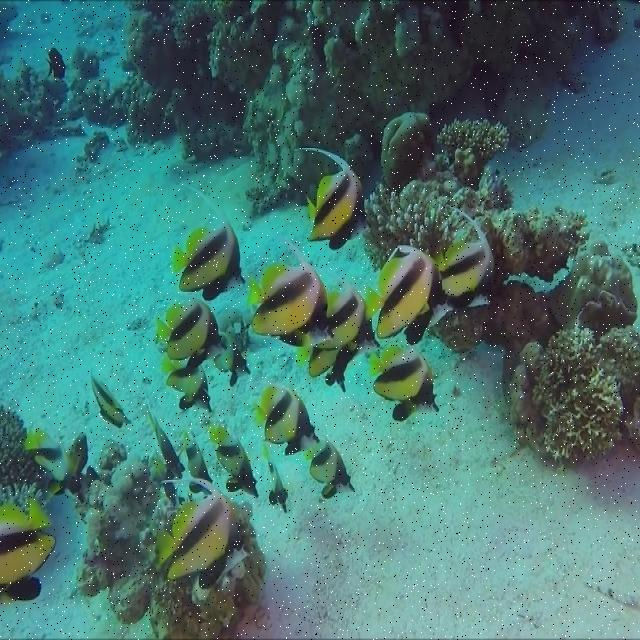aquatic plants: (536, 328, 639, 464), (362, 182, 474, 262), (0, 404, 51, 512)
fish: (155, 475, 248, 603), (249, 240, 332, 347), (173, 184, 247, 300), (366, 245, 452, 343), (301, 146, 367, 251), (0, 491, 55, 607), (436, 205, 495, 307), (311, 289, 375, 377), (372, 345, 439, 425), (154, 298, 227, 370), (251, 386, 320, 456), (27, 431, 88, 506), (210, 427, 258, 496), (305, 445, 354, 499), (163, 359, 210, 412), (90, 370, 130, 426)
